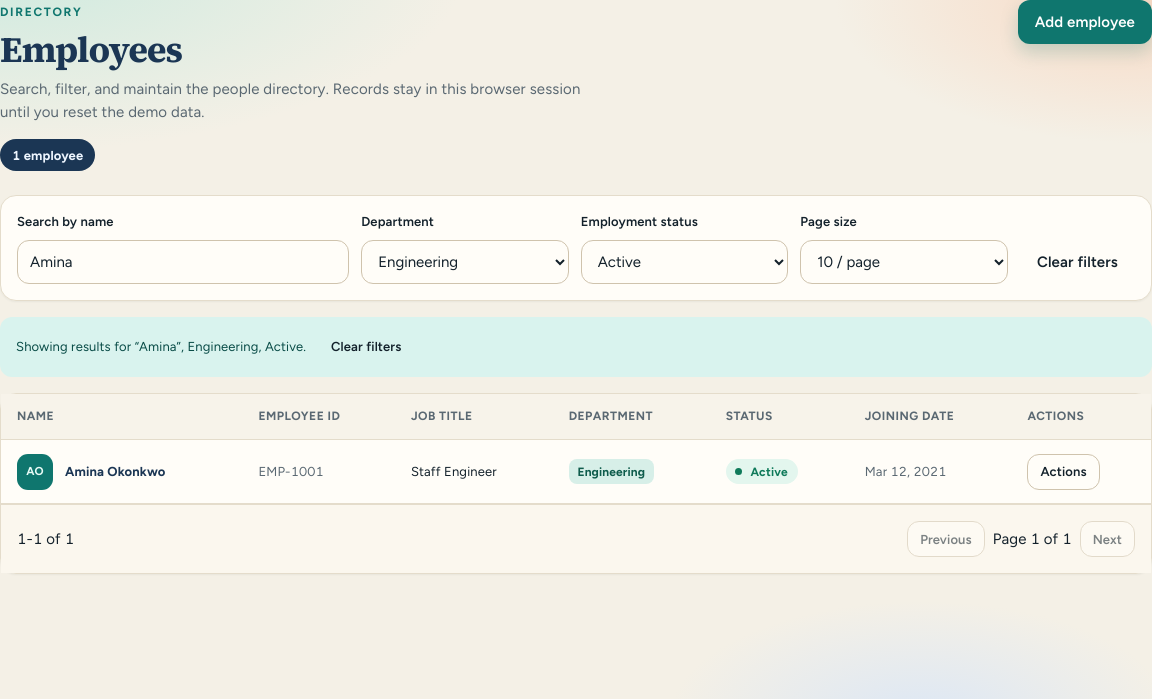
Test: Employee list › clears search and filters
The image size is (1152, 699).
Click the button "Clear filters" below "Page size" at point(1077, 262), box top-left (1020, 240), bottom-right (1135, 284)
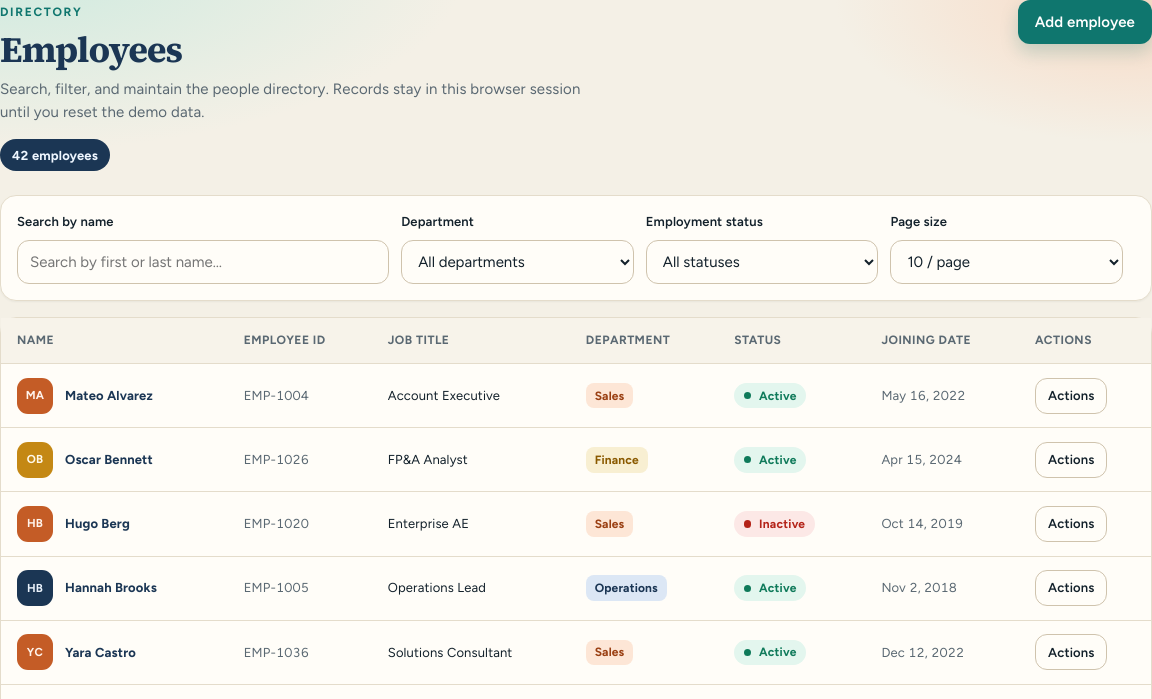
Expected: the search field labelled "Search by name" is empty, top-left (17, 240), bottom-right (389, 284)
